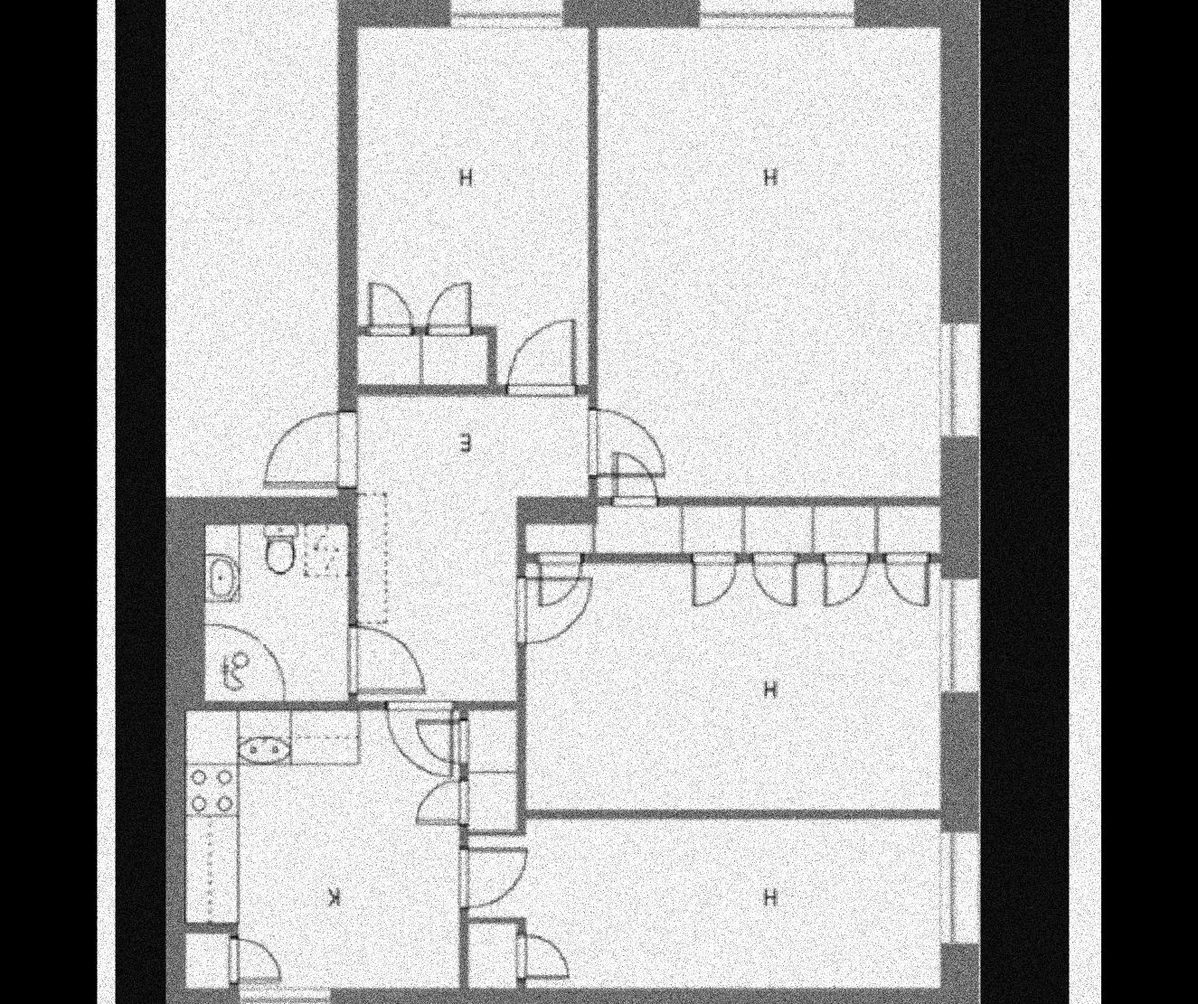door: (602, 28, 940, 501), (463, 711, 939, 992), (526, 506, 942, 812), (362, 27, 588, 385), (188, 712, 461, 989), (358, 396, 590, 700)
window: (260, 404, 357, 493), (585, 403, 668, 488), (507, 317, 581, 399), (350, 627, 429, 699), (517, 574, 592, 645), (381, 702, 449, 780), (458, 843, 527, 910), (407, 775, 472, 829), (821, 551, 873, 608), (231, 935, 285, 989), (532, 553, 583, 609), (515, 931, 566, 986), (883, 549, 931, 607), (413, 718, 470, 766), (750, 552, 797, 609), (608, 455, 659, 507), (690, 555, 737, 610), (428, 282, 472, 335), (370, 278, 410, 335)
zone: (942, 577, 983, 690), (941, 830, 978, 943), (942, 324, 978, 436), (699, 0, 852, 23), (448, 0, 568, 24), (241, 986, 332, 1004)
